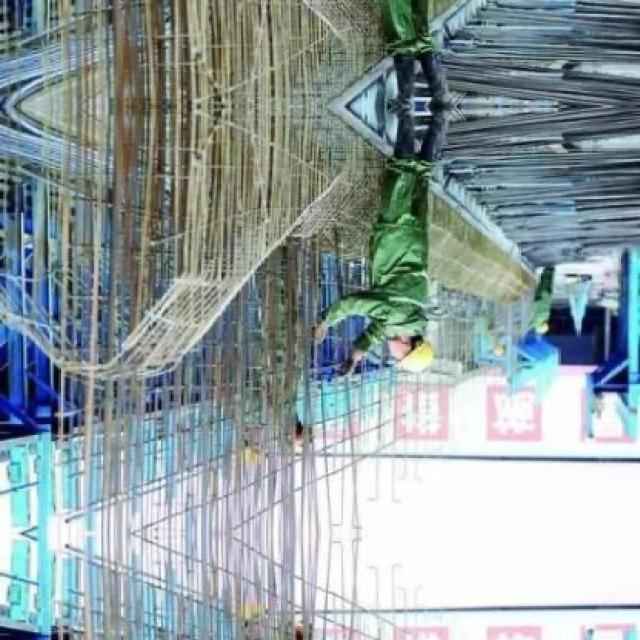con casco: (354, 306, 450, 390)
